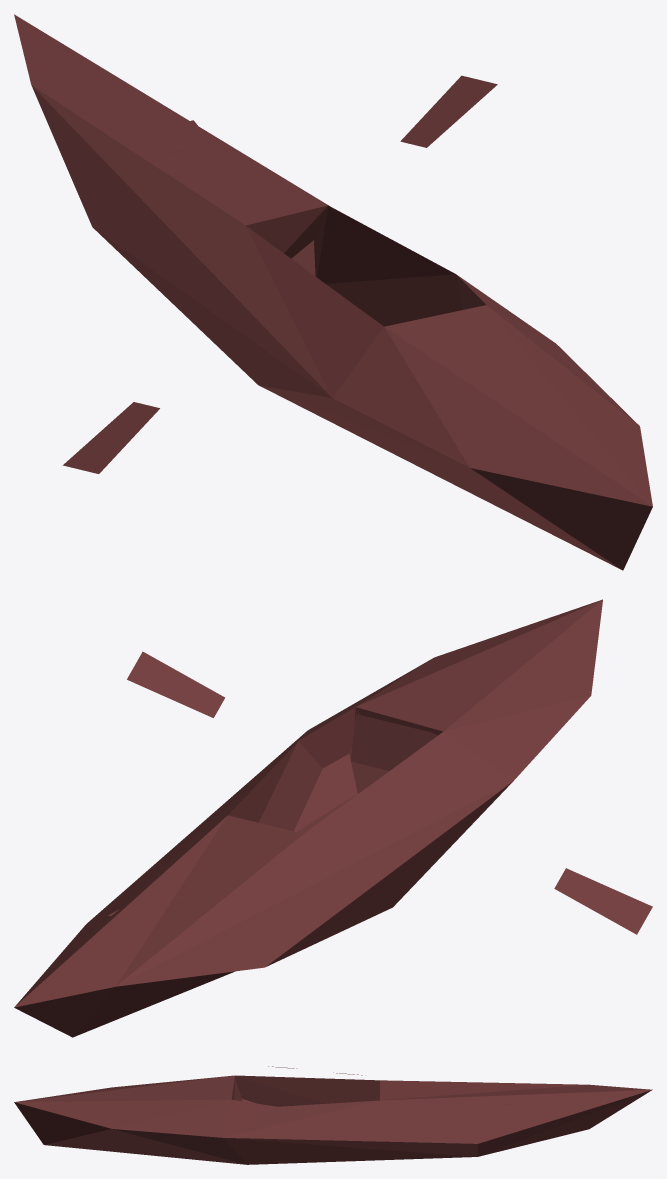
Rendered from bay-kayak.lod2.glb.
3 renders of one model, top to bottom at view 1: azimuth 30°, elevation 25°; view 2: azimuth 150°, elevation 25°; view 3: azimuth 270°, elevation 25°, orthographic. The views are drawn at different scales.
Visible parts, largest first — view 1: polySurface3_lambert2_0; view 2: polySurface3_lambert2_0; view 3: polySurface3_lambert2_0.
Boxes of the visible parts, box(x1,y1,x2,y2) form: polySurface3_lambert2_0: box(14, 14, 652, 570); polySurface3_lambert2_0: box(14, 599, 652, 1037); polySurface3_lambert2_0: box(14, 1066, 652, 1164).
Bounding box in the file's own units: 2.09 × 0.9342 × 4.77.
